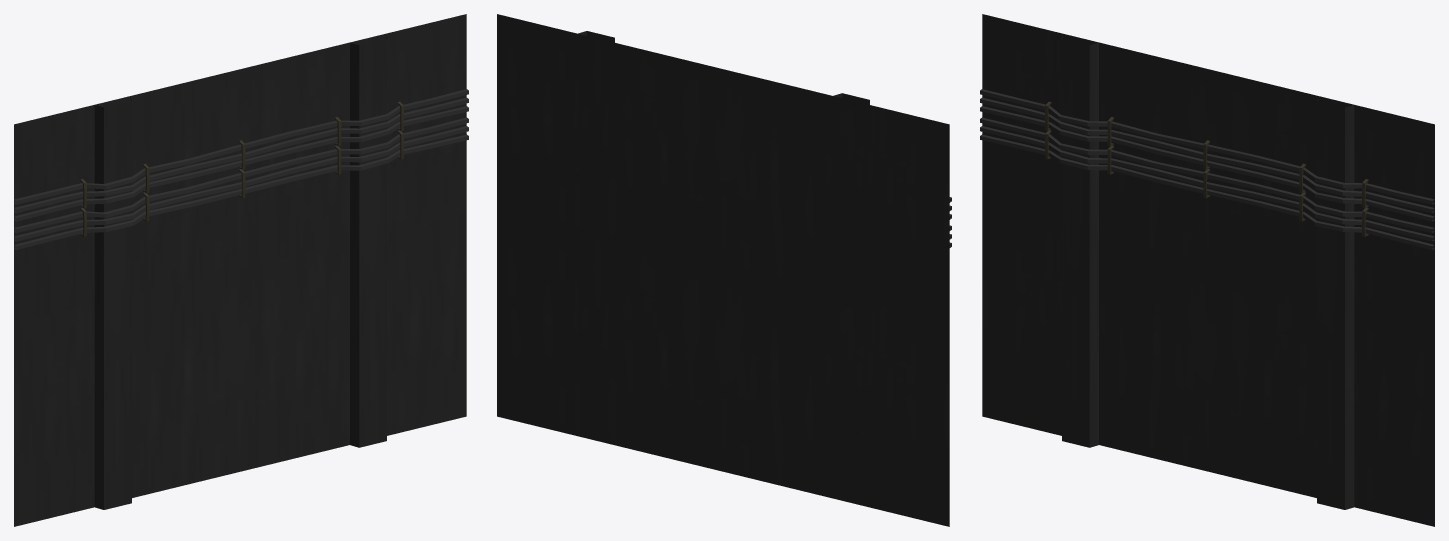
File: SW_ENV_RailTunnelWall_B_01b_05m_FF.fbx
3 views of the same model, side by side, from view 1: azimuth 30°, elevation 25°; view 2: azimuth 150°, elevation 25°; view 3: azimuth 330°, elevation 25° (orthographic).
Parts seen in each view (by area): view 1: SW_ENV_RailTunnelWall_B_01b_05m_FF; view 2: SW_ENV_RailTunnelWall_B_01b_05m_FF; view 3: SW_ENV_RailTunnelWall_B_01b_05m_FF.
Part boxes in pixels (x1,y1,x2,y2): SW_ENV_RailTunnelWall_B_01b_05m_FF: (14, 14, 468, 526); SW_ENV_RailTunnelWall_B_01b_05m_FF: (497, 14, 951, 526); SW_ENV_RailTunnelWall_B_01b_05m_FF: (980, 14, 1434, 526).
Bounding box in the file's own units: 500 × 425 × 14.88.
